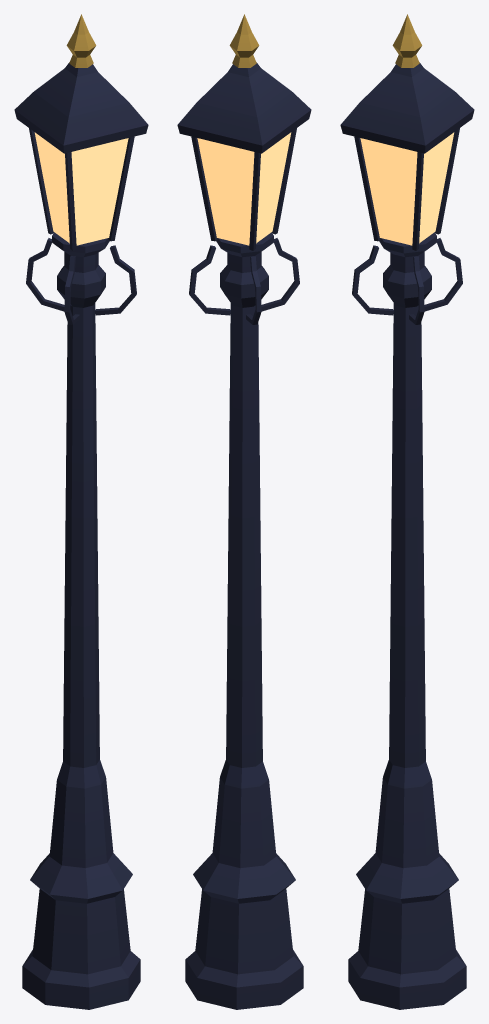
File: lamp_paris.glb
3 renders of one model, left to right at view 1: azimuth 30°, elevation 25°; view 2: azimuth 150°, elevation 25°; view 3: azimuth 330°, elevation 25°, orthographic.
Visible parts, largest first — view 1: post, lamp; view 2: post, lamp; view 3: post, lamp.
Boxes of the visible parts, <box> form: post: <box>14,14,148,1009</box>; lamp: <box>34,132,128,245</box>; post: <box>177,14,311,1009</box>; lamp: <box>197,132,291,245</box>; post: <box>340,14,474,1009</box>; lamp: <box>360,132,454,245</box>.
Size of the model in its own units: 0.4435 by 4.32 by 0.4435.
Materials: 2 (1 with a texture image).
